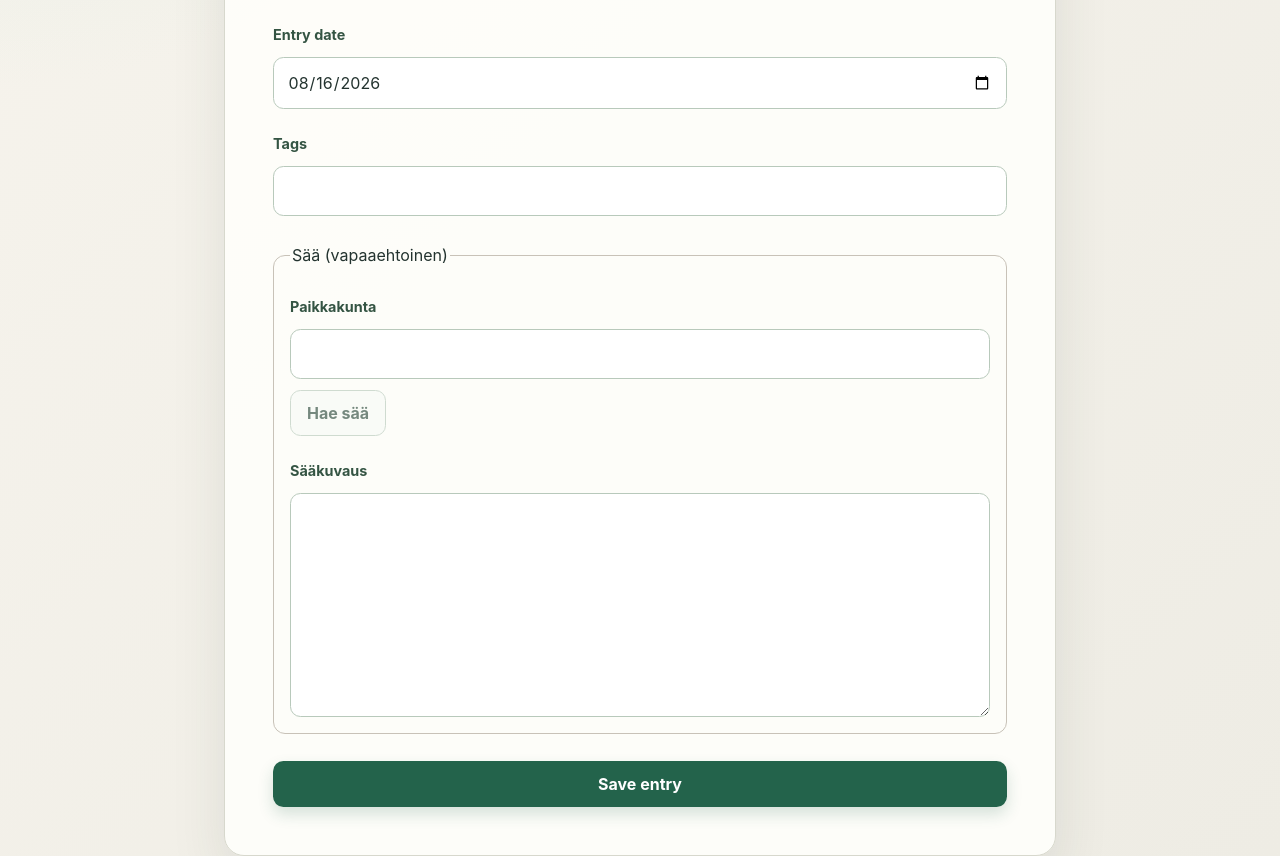
Scenario: NewEntryForm › associates a title validation error with the title field
(page scrolled)
Click the button "Save entry" at [640, 784], box [273, 761, 1007, 807]
(page scrolled)
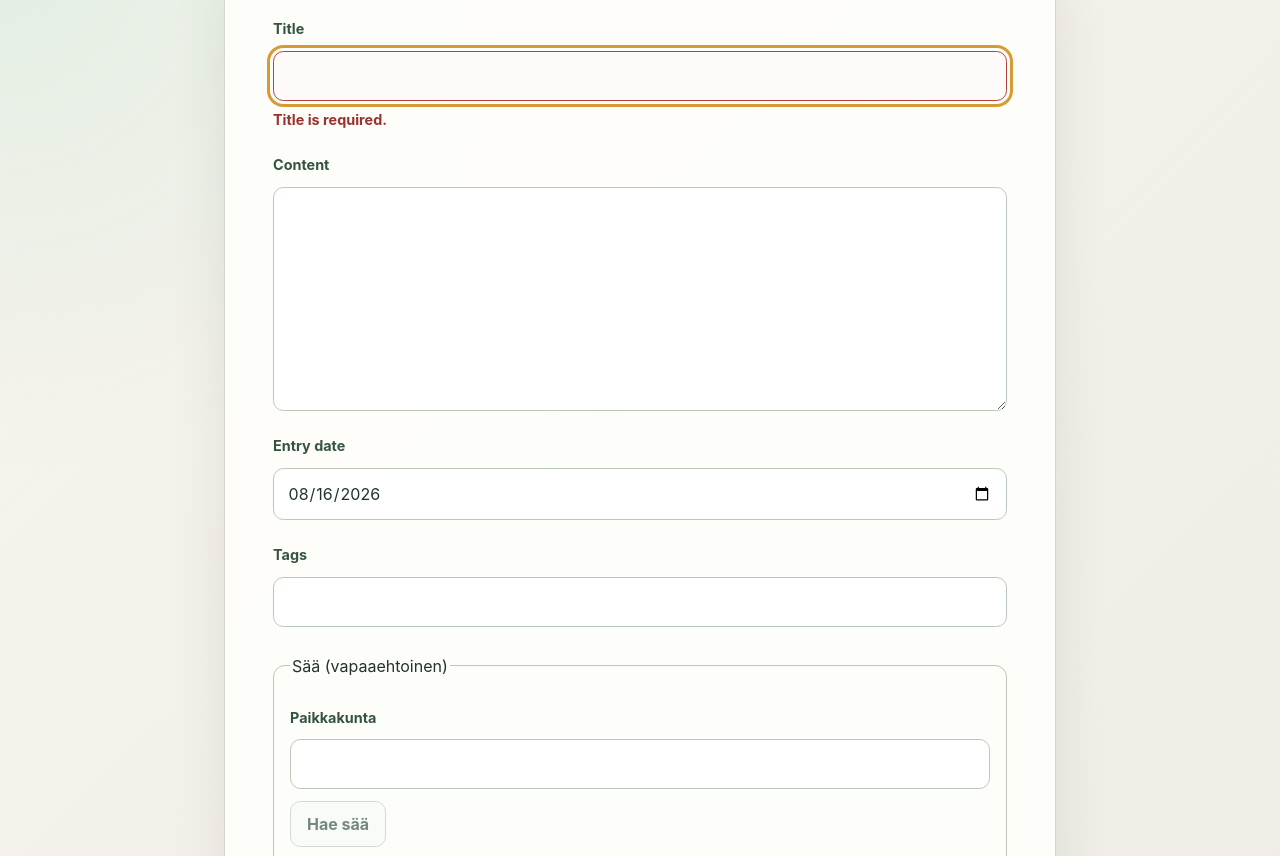
Now the message reads "Title is required.", box [273, 111, 387, 128]
